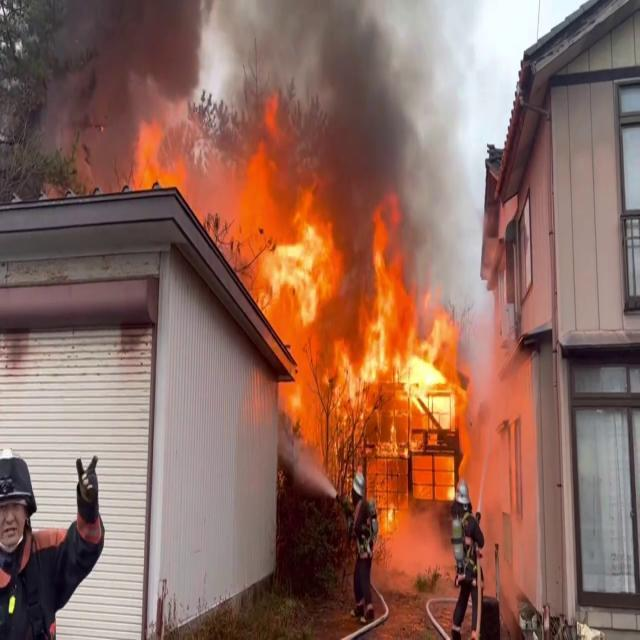Fire: (241, 130, 481, 504), (134, 120, 215, 232)
Smoke: (292, 0, 486, 278), (24, 0, 228, 192)
